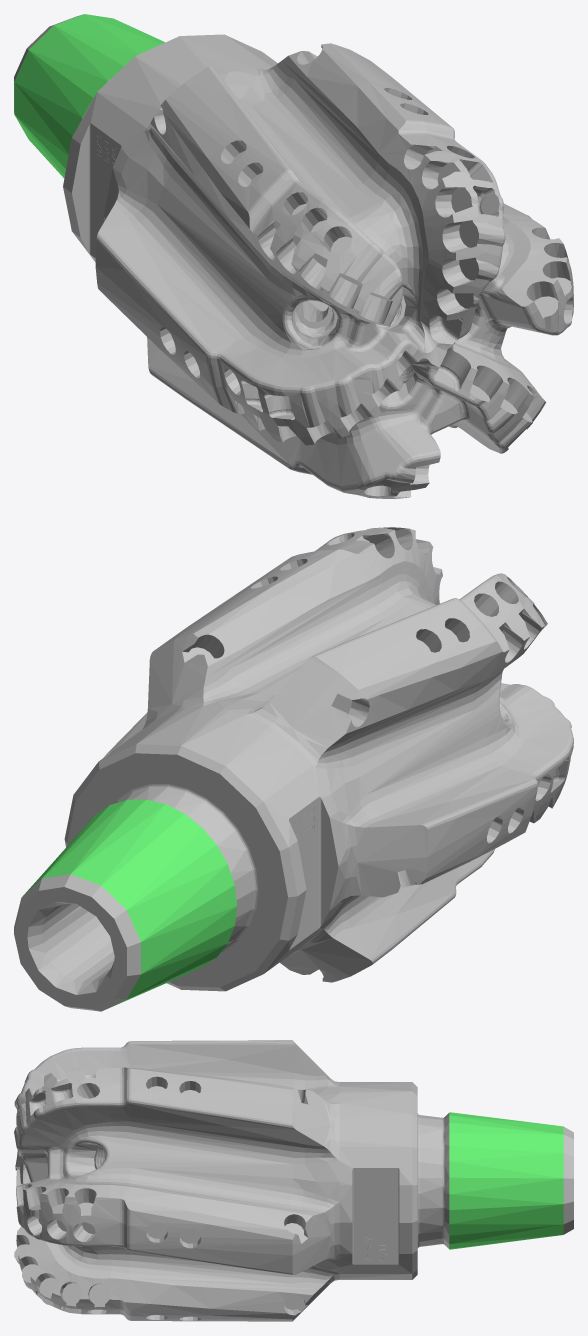
The model's file is CDG-39211r0.obj.
3 views of the same model, one above another, from view 1: azimuth 30°, elevation 25°; view 2: azimuth 150°, elevation 25°; view 3: azimuth 270°, elevation 25° (orthographic). The views are drawn at different scales.
Parts seen in each view (by area): view 1: CDG_39211r0; view 2: CDG_39211r0; view 3: CDG_39211r0.
Boxes of the visible parts, box(x1,y1,x2,y2) form: CDG_39211r0: box(14, 14, 573, 498); CDG_39211r0: box(14, 527, 573, 1011); CDG_39211r0: box(14, 1040, 573, 1321).
Bounding box in the file's own units: 171 × 168 × 341.
